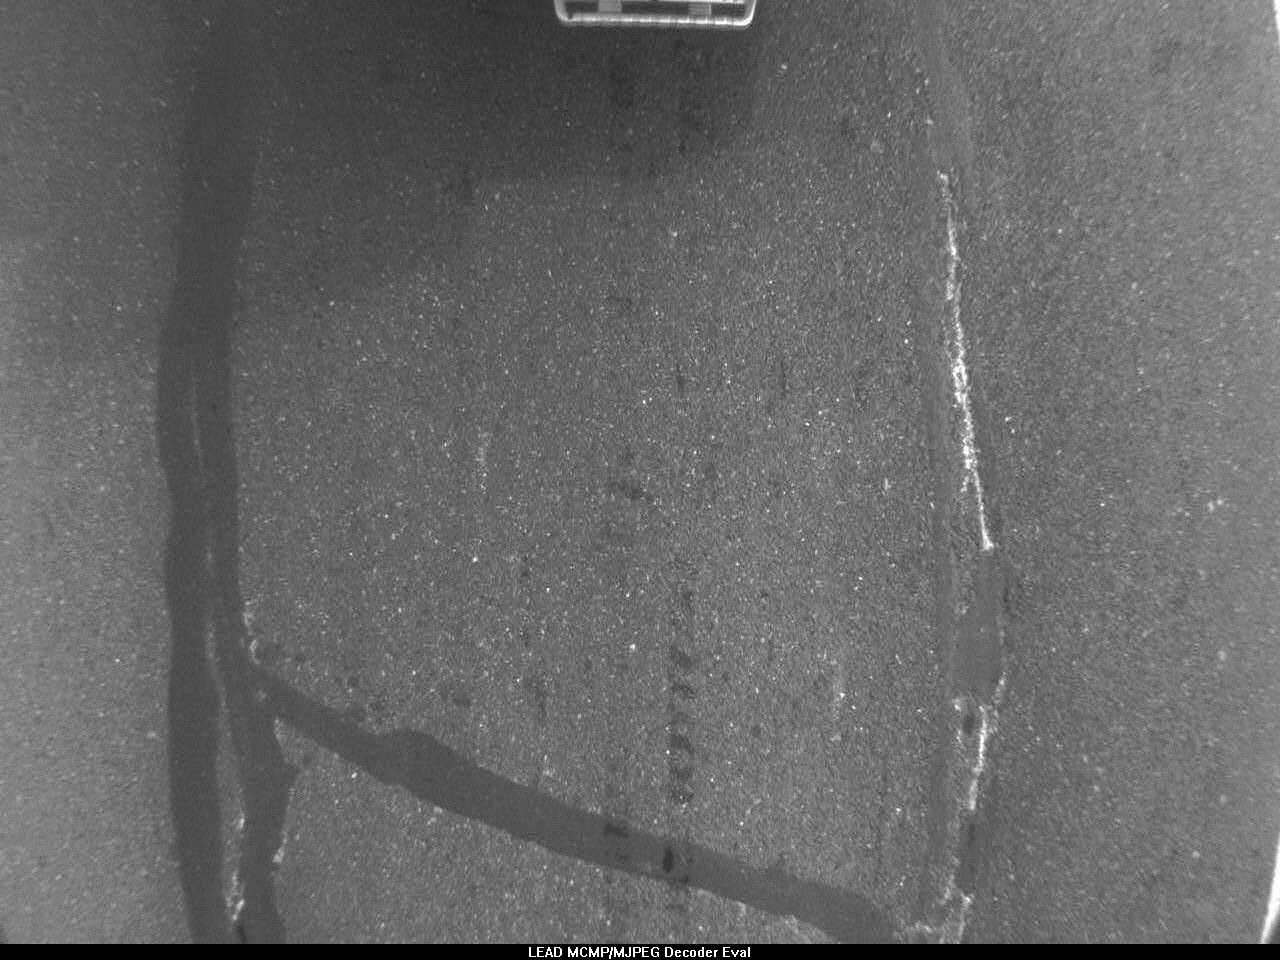sealed: (150, 467, 279, 940)
